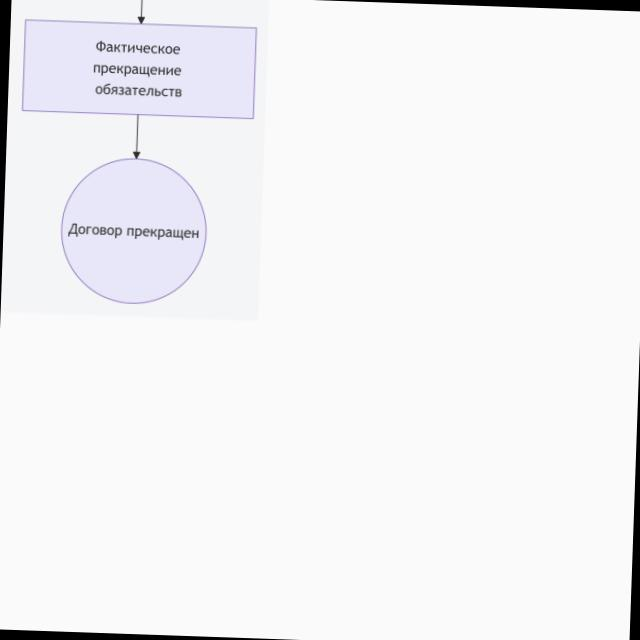arrow: (133, 116, 139, 158)
circle: (62, 159, 206, 303)
rectangle: (23, 20, 257, 118)
